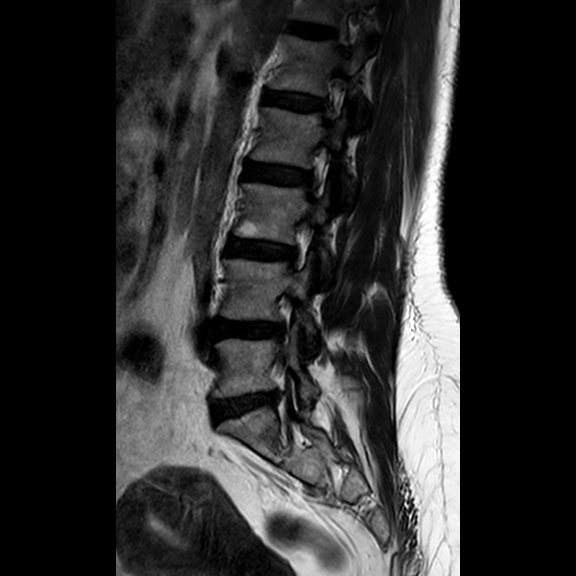LFS0: (269, 211, 321, 279), (292, 136, 340, 202), (311, 68, 359, 131)
